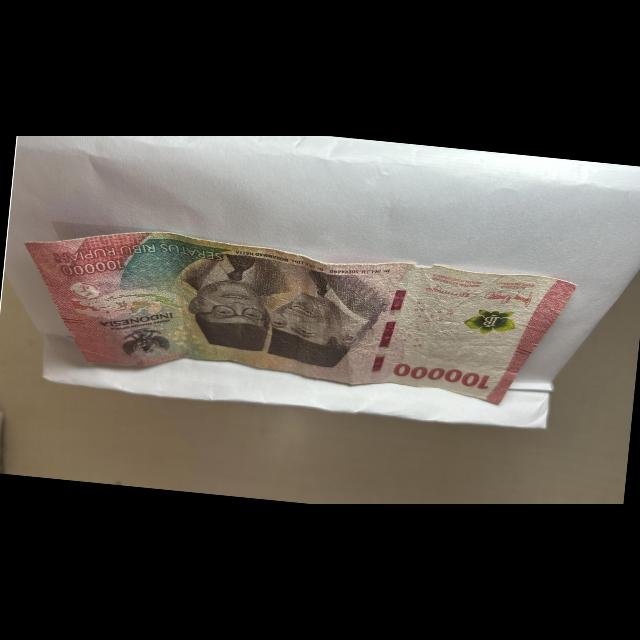Palsu-100k: (0, 213, 587, 419)
Tinta-Palsu-100k: (460, 306, 521, 340)
